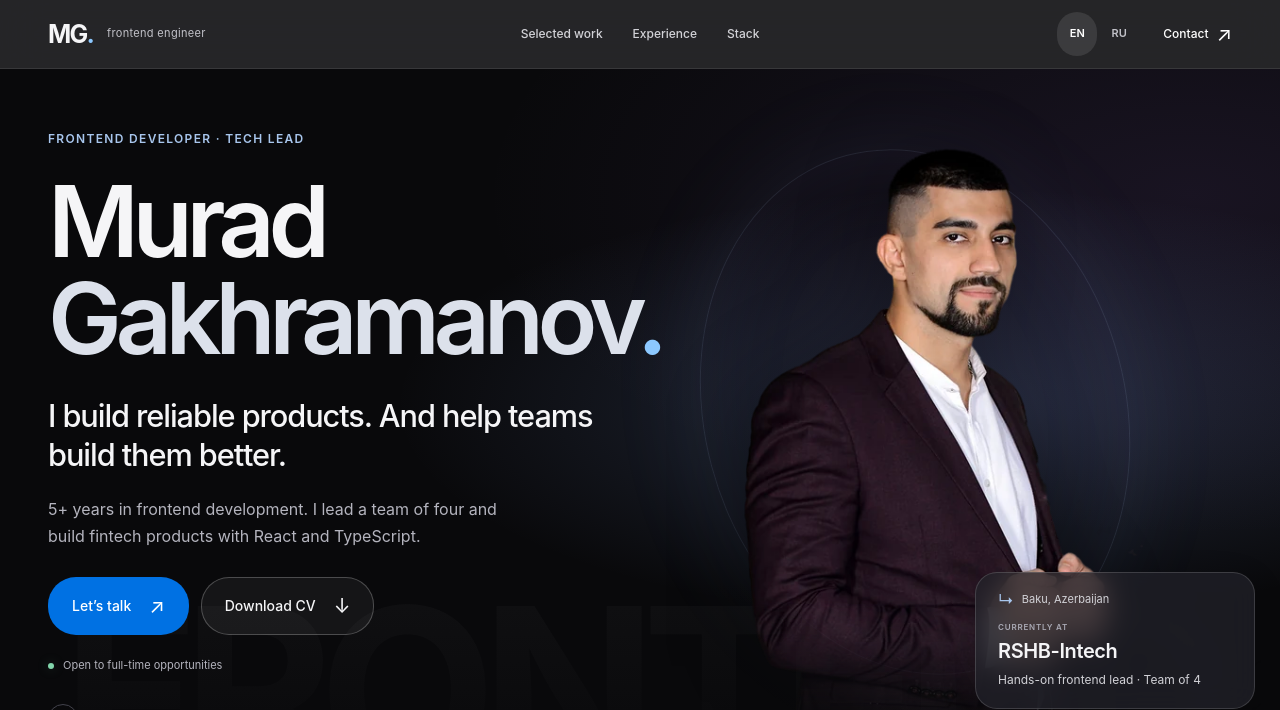
Test: recruiter portfolio › still works when the browser blocks access to language storage
Expected: the heading "Murad Gakhramanov." is shown, [48, 174, 711, 367]
Step 1. Click the button with aria-label "Русский" → point(1119, 34), box [1099, 12, 1139, 56]
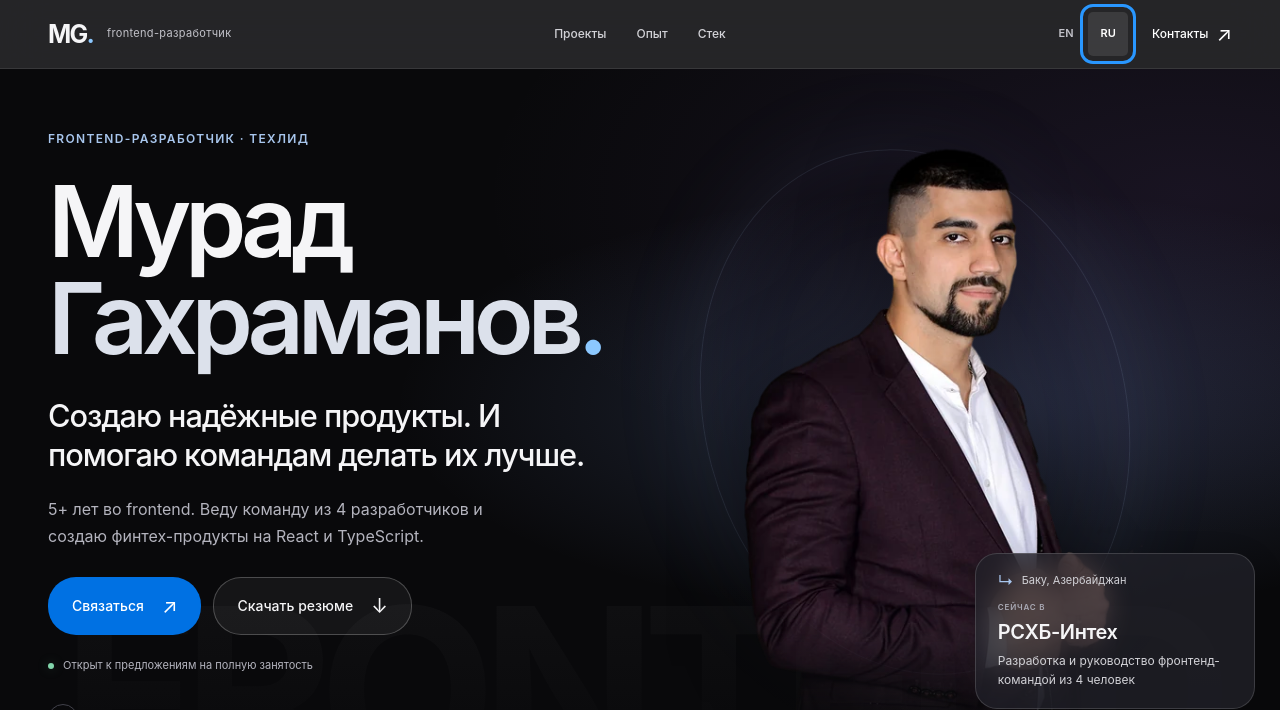
Result: the heading "Мурад Гахраманов." is shown at [48, 162, 602, 378]
